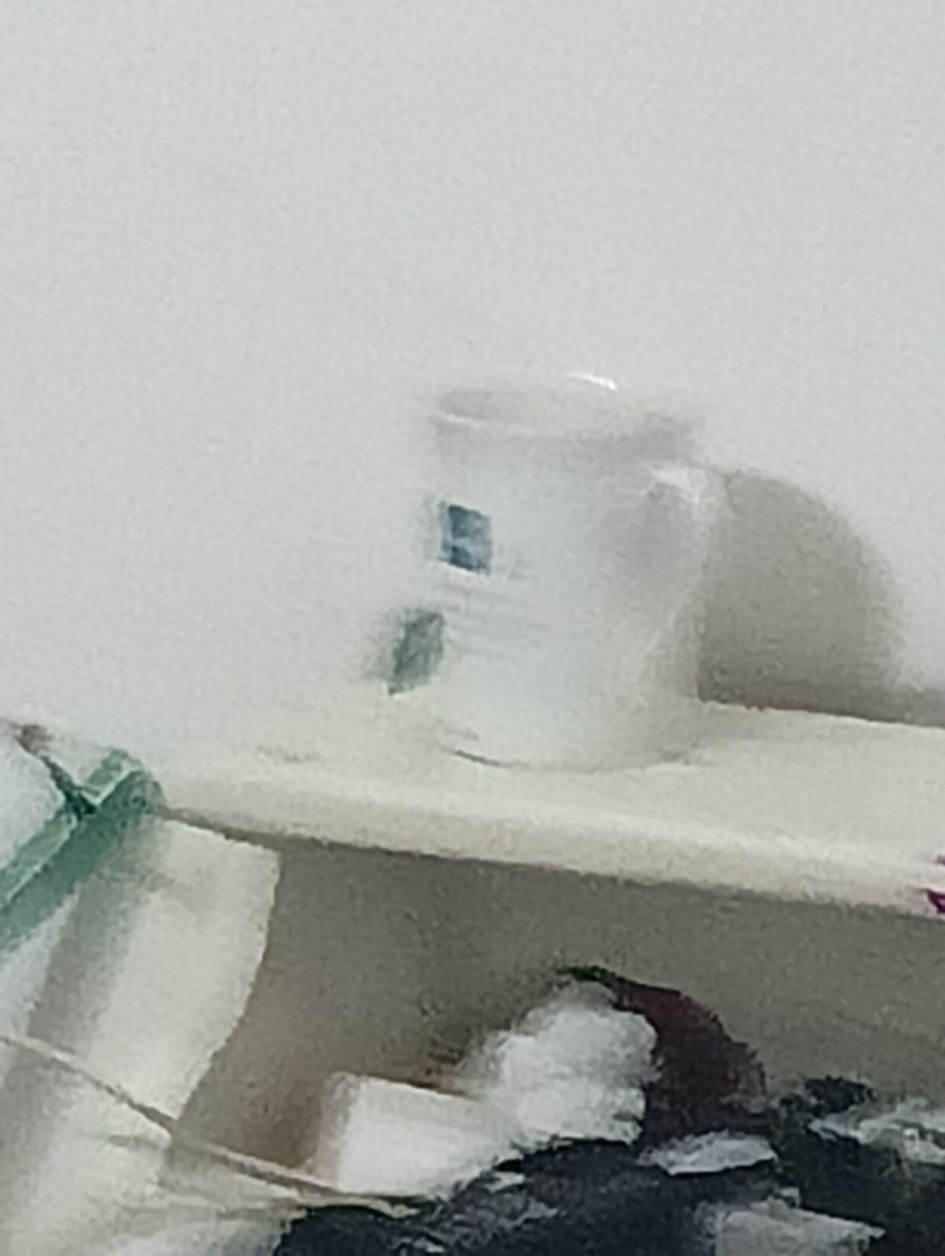cup: (387, 377, 719, 771), (410, 355, 701, 461)
